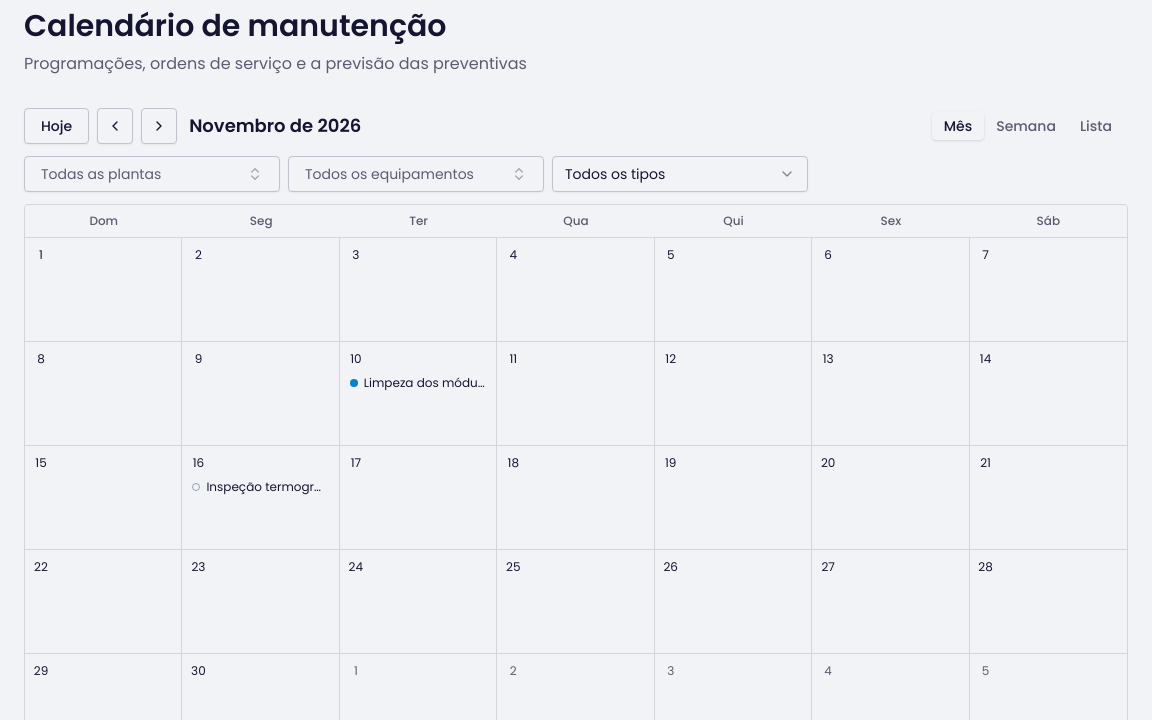
Test: CalendarioPage › a previsão mostra a tarefa, quando vence e quando o gerador a programa
Step 1. Click the button "Inspeção termográfica" → [261, 487], box [186, 477, 335, 497]
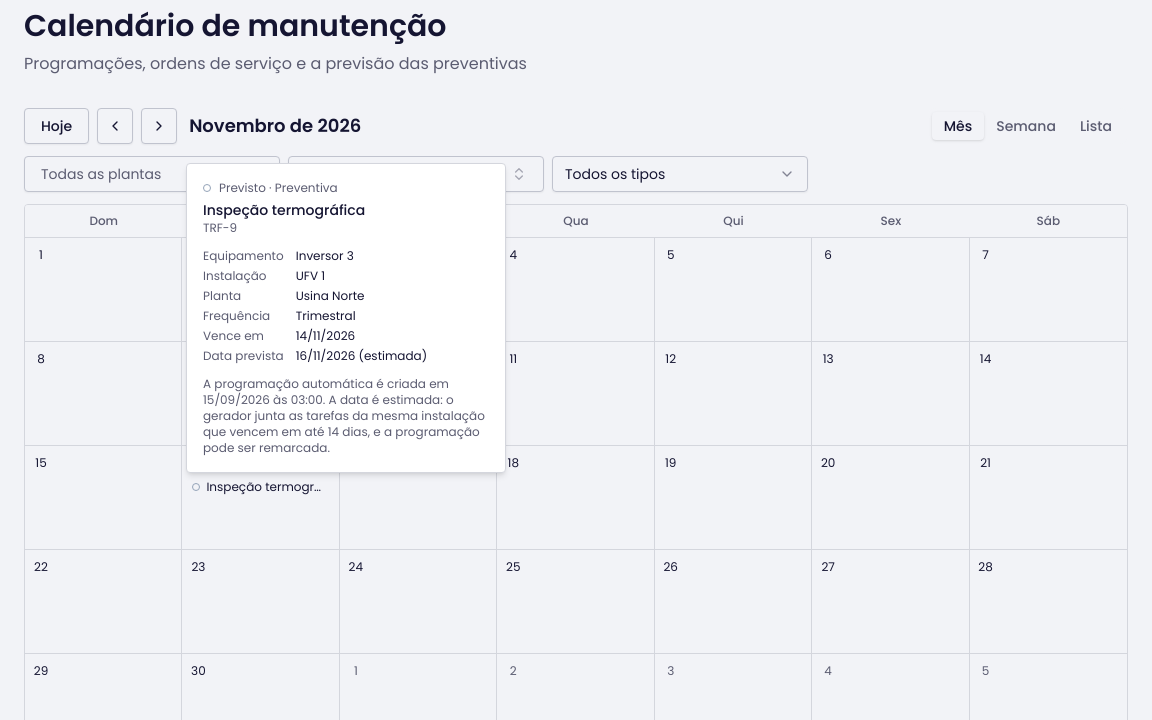
Result: the text "TRF-9" is shown at [203, 219, 237, 236]
Result: the text "Trimestral" is shown at [296, 307, 356, 324]
Result: the text "14/11/2026" is shown at [296, 327, 355, 344]
